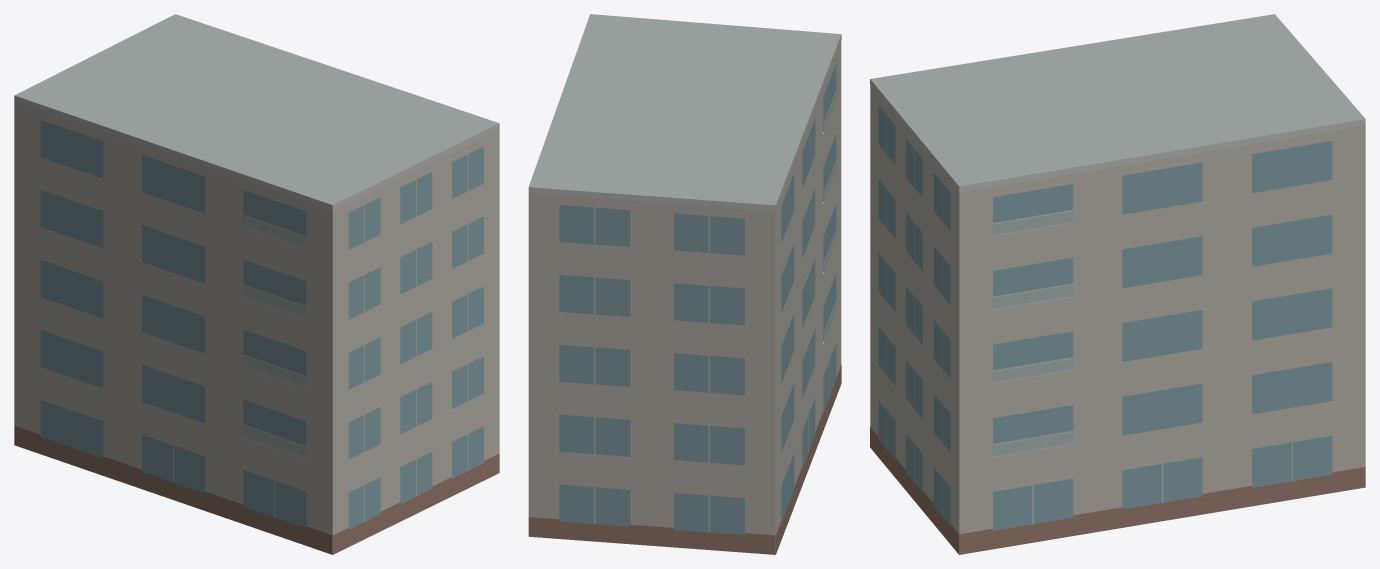
The model's file is survey-upis-32863571.glb.
The picture shows the model from 3 angles, left to right: view 1: azimuth 30°, elevation 25°; view 2: azimuth 150°, elevation 25°; view 3: azimuth 270°, elevation 25°; orthographic projection. The views are drawn at different scales.
Visible parts, largest first — view 1: survey-upis-32863571.tmp; view 2: survey-upis-32863571.tmp; view 3: survey-upis-32863571.tmp.
Boxes of the visible parts, x1,y1,x2,y2 form: survey-upis-32863571.tmp: [14, 14, 499, 554]; survey-upis-32863571.tmp: [528, 14, 841, 554]; survey-upis-32863571.tmp: [870, 14, 1365, 554].
Size of the model in its own units: 14.97 by 14.9 by 18.17.
